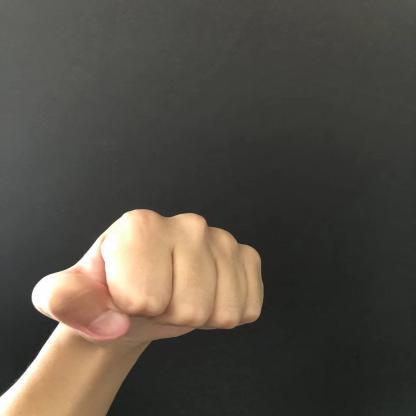fist: (35, 178, 294, 354)
